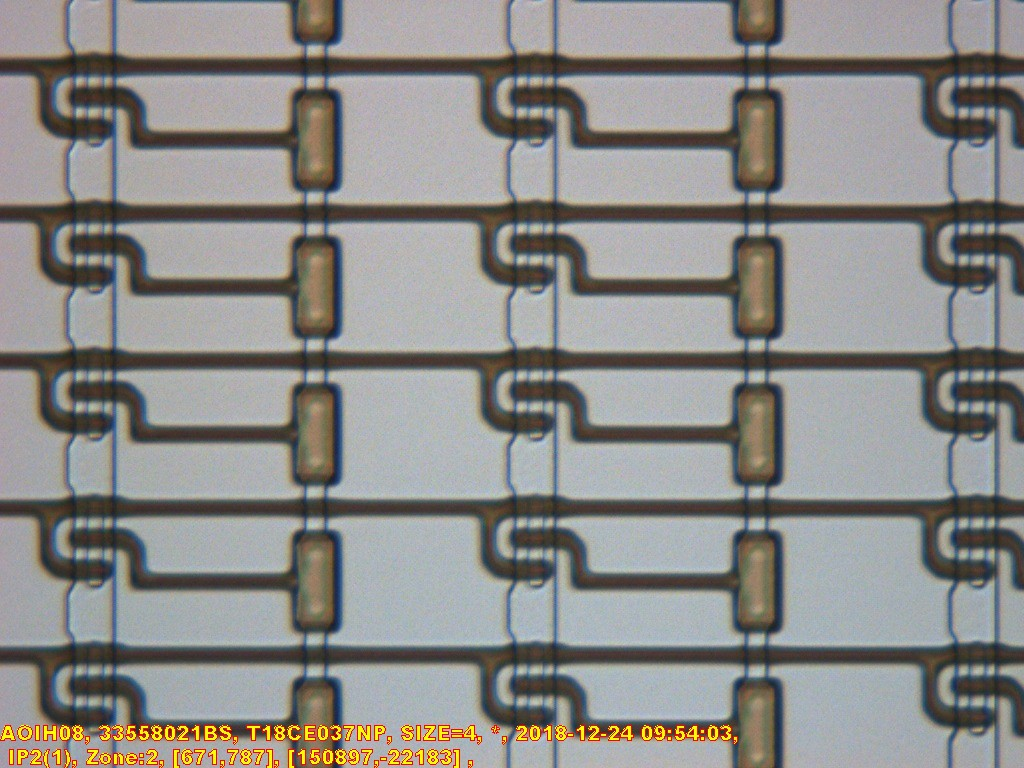good: (29, 39, 145, 148), (470, 38, 586, 147), (28, 186, 144, 295), (470, 186, 586, 295), (29, 333, 145, 442), (470, 333, 586, 442), (29, 481, 145, 590), (470, 480, 586, 589)
